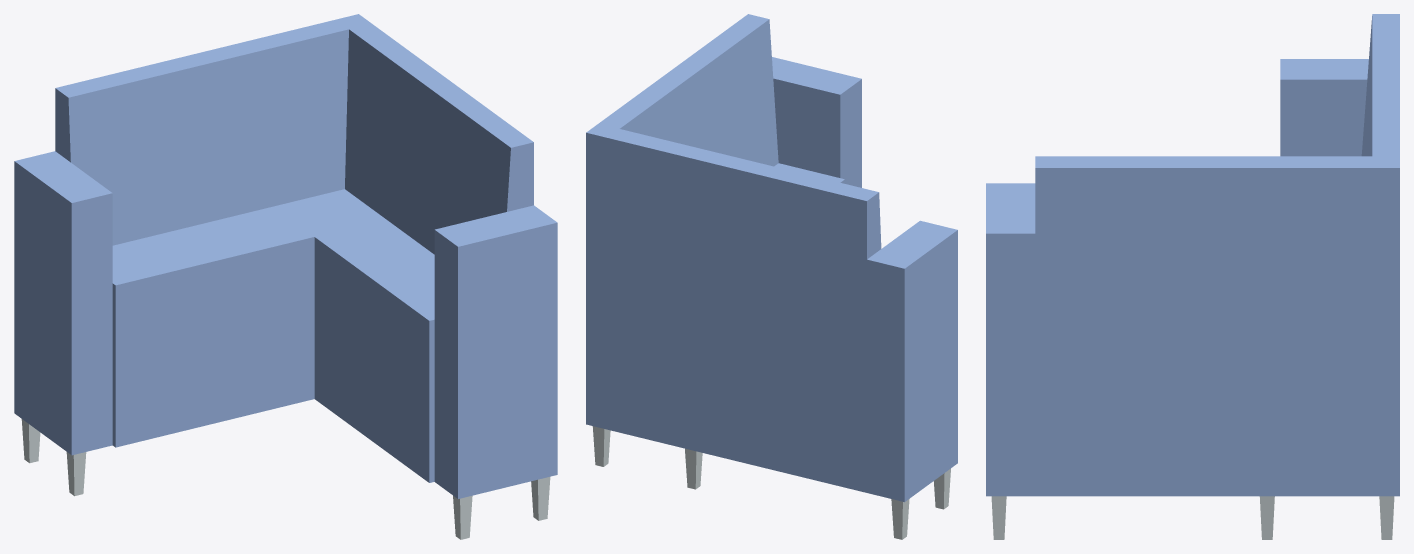
The model's file is kn-lounge-design-sofa-corner.glb.
3 views of the same model, side by side, from view 1: azimuth 30°, elevation 25°; view 2: azimuth 150°, elevation 25°; view 3: azimuth 270°, elevation 25° (orthographic). The views are drawn at different scales.
Parts seen in each view (by area): view 1: loungeDesignSofaCorner(Clone); view 2: loungeDesignSofaCorner(Clone); view 3: loungeDesignSofaCorner(Clone).
Part boxes in pixels (box(x1,y1,x2,y2)): loungeDesignSofaCorner(Clone): box(14, 14, 557, 539); loungeDesignSofaCorner(Clone): box(586, 14, 957, 539); loungeDesignSofaCorner(Clone): box(986, 14, 1399, 539).
Bounding box in the file's own units: 1 × 1 × 1.
